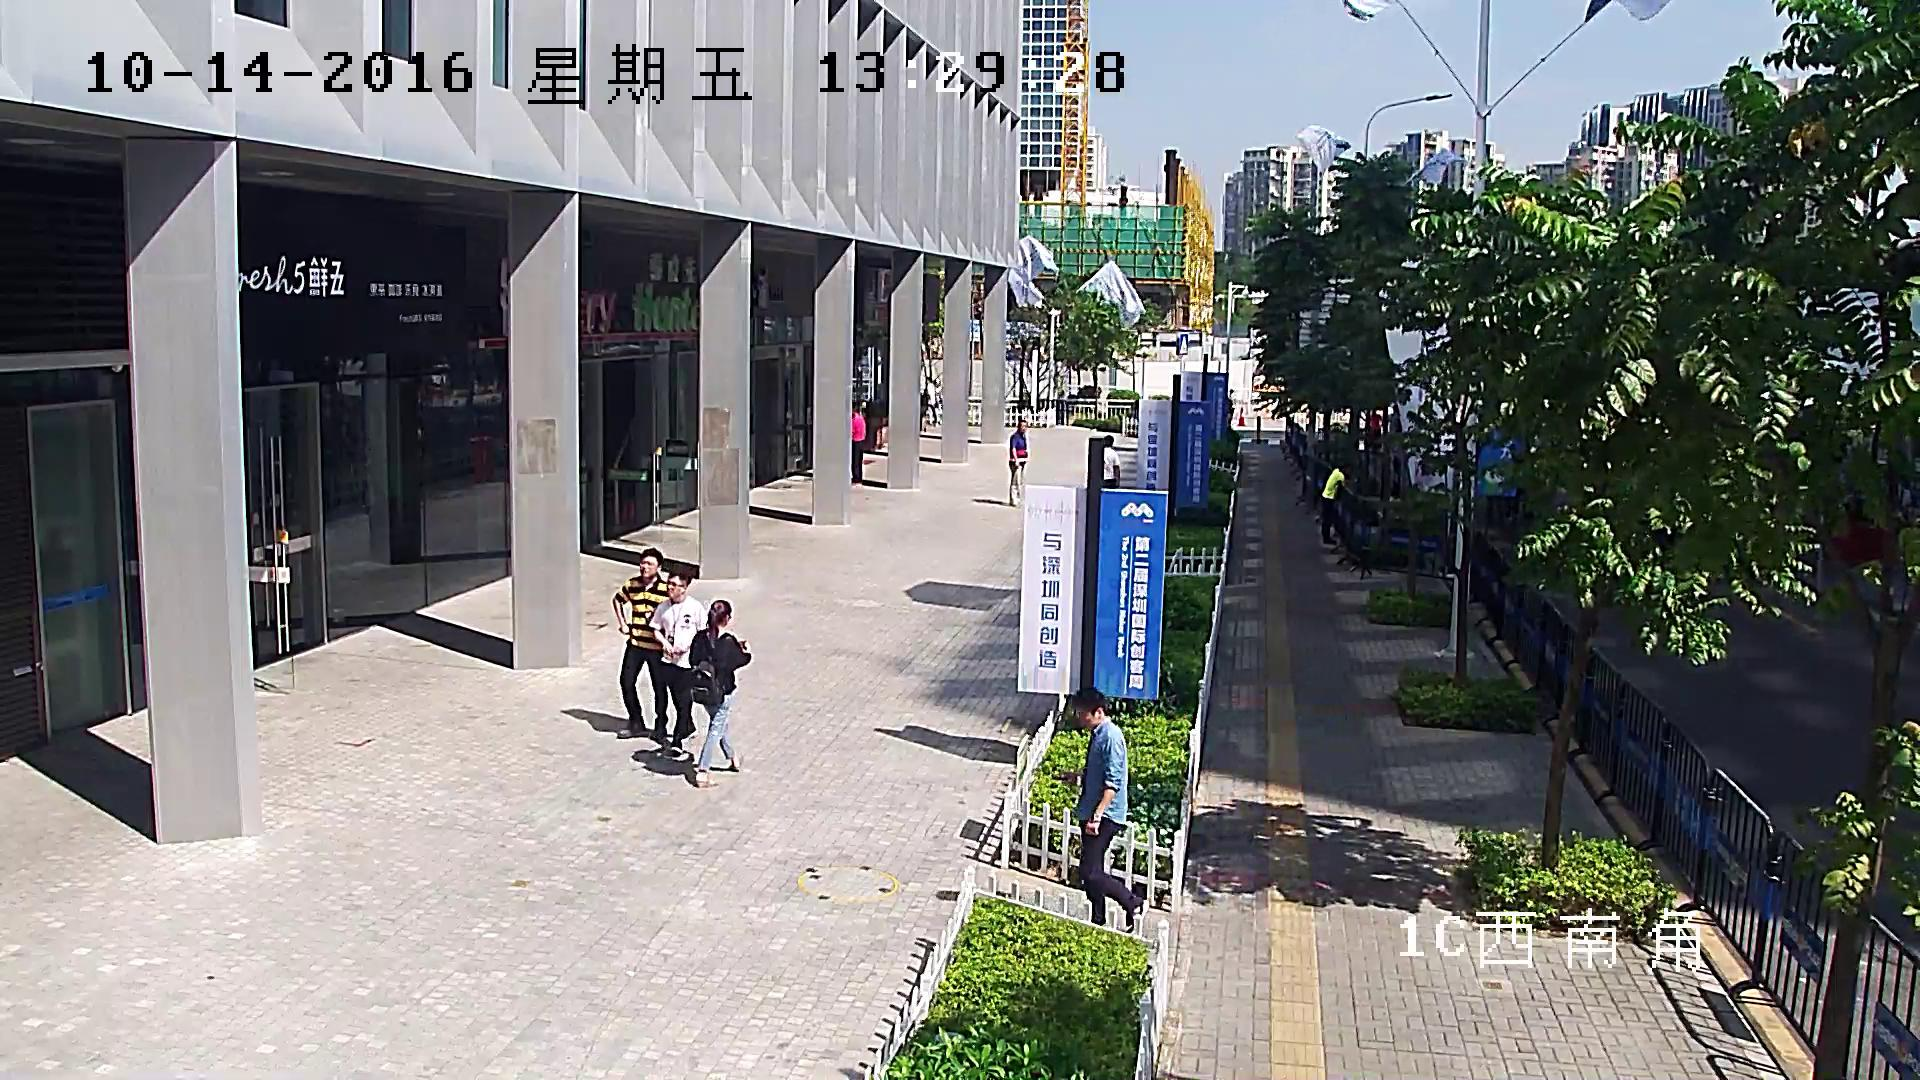person: (1071, 687, 1150, 933), (611, 547, 673, 741), (688, 599, 750, 788), (649, 564, 706, 752), (1319, 459, 1351, 545), (1008, 419, 1028, 506), (851, 402, 866, 483), (1103, 434, 1120, 488)
